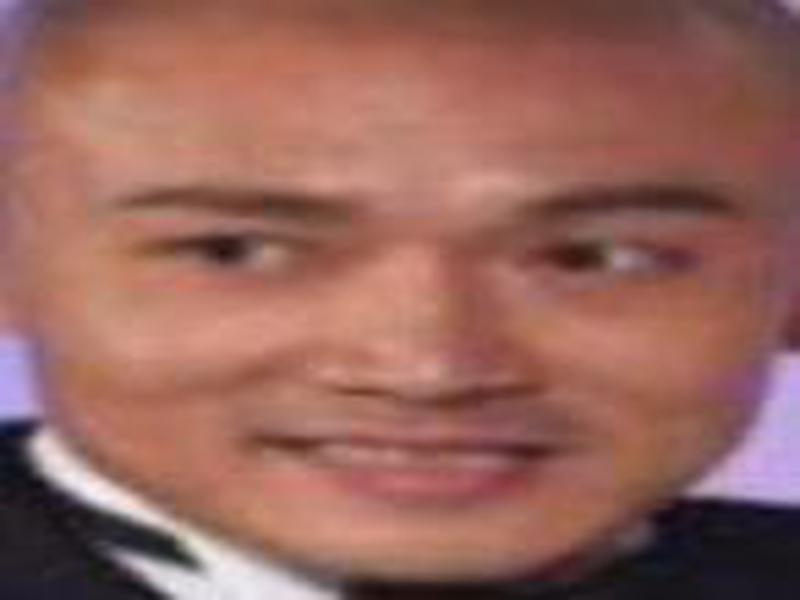without_mask: (14, 38, 782, 591)
